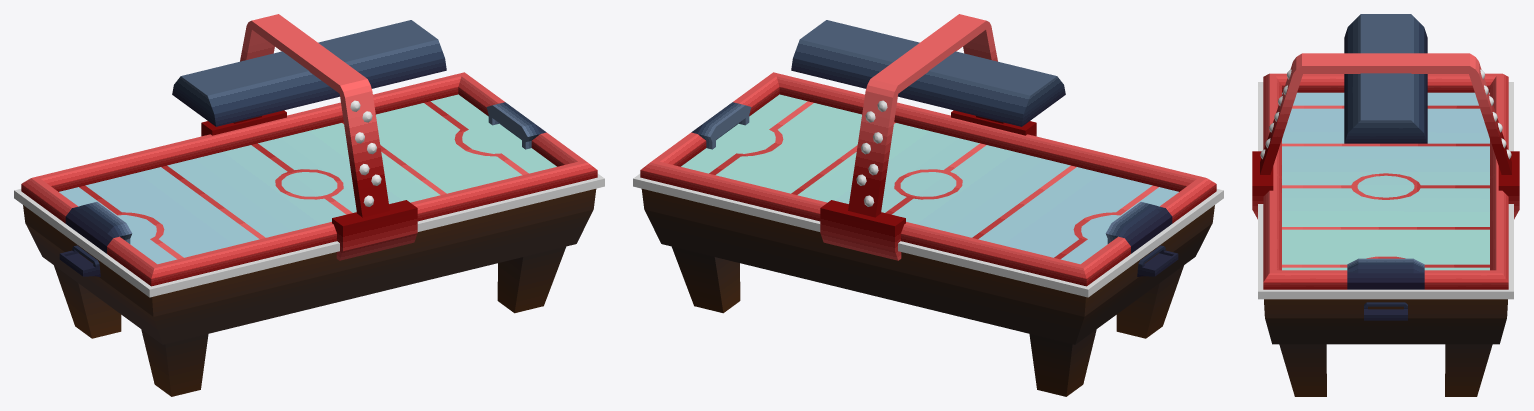
Rendered from cybergaj 1.fbx.
The picture shows the model from 3 angles, left to right: view 1: azimuth 30°, elevation 25°; view 2: azimuth 150°, elevation 25°; view 3: azimuth 270°, elevation 25°; orthographic projection. The views are drawn at different scales.
Visible parts, largest first — view 1: cyber, g_4.001; view 2: cyber, g_4.001; view 3: cyber, g_4.001.
Boxes of the visible parts, x1,y1,x2,y2 form: cyber: (21,14,597,396); g_4.001: (14,173,604,297); cyber: (640,14,1216,396); g_4.001: (633,173,1223,297); cyber: (1252,14,1519,396); g_4.001: (1258,82,1513,299).
Size of the model in its own units: 1113 by 595 by 573.
